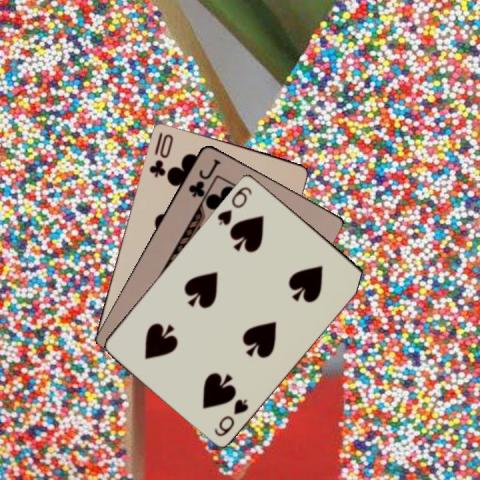10c: (146, 128, 175, 178)
6s: (214, 183, 254, 227), (211, 395, 250, 438)
Jc: (185, 155, 221, 199)
